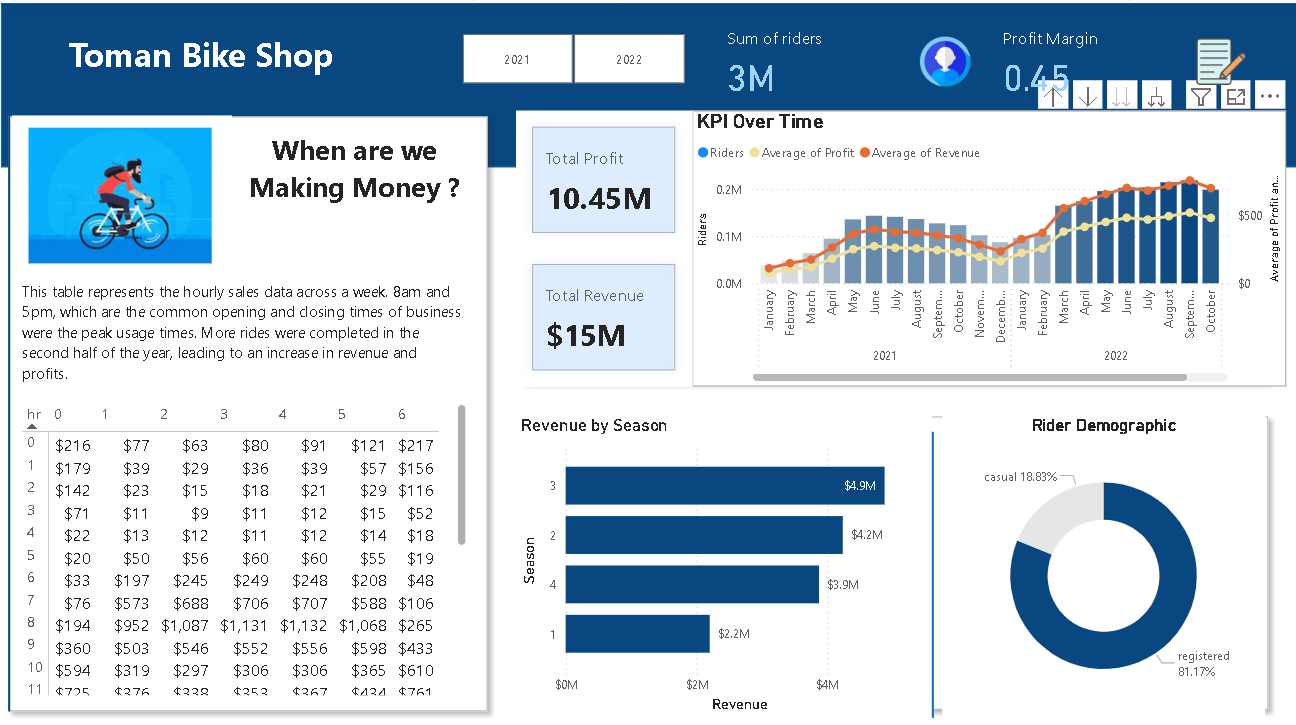

Layout of this report page (visuals, bound fields, positions):
{"tool":"powerbi","page":{"name":"Bike Share Dashboard","canvas":[1280,720],"ordinal":0},"visuals":[{"type":"shape","box":[10,0,1270,160.7],"z":0},{"type":"cardVisual","fields":{"Data":["Sum(Query1.riders)"]},"box":[0,93.8,503.5,616.1],"z":1000},{"type":"cardVisual","fields":{"Data":["Sum(Query1.riders)"]},"box":[503.5,93.8,763.2,294.3],"z":2000},{"type":"cardVisual","fields":{"Data":["Sum(Query1.riders)"]},"box":[503.5,388.1,763.2,321.7],"z":3000},{"type":"cardVisual","fields":{"Data":["Sum(Query1.riders)"]},"box":[15.9,105.3,225.1,161.6],"z":4000},{"type":"pivotTable","fields":{"Rows":["Query1.hr"],"Values":["Avg(Query1.Revenue)"],"Columns":["Query1.weekday"]},"box":[26,388.1,444.4,294.3],"z":5000},{"type":"textbox","box":[240.9,119.8,228.7,121.1],"z":6000},{"type":"textbox","box":[26,266.9,444.4,121.2],"z":7000},{"type":"lineClusteredColumnComboChart","title":"KPI Over Time","fields":{"Category":["Query1.dteday.Variation.Date Hierarchy.Year","Query1.dteday.Variation.Date Hierarchy.Month","Query1.dteday.Variation.Date Hierarchy.Day"],"Y":["Sum(Query1.riders)"],"Y2":["Avg(Query1.Profit)","Avg(Query1.Revenue)"]},"box":[686,105.2,580.8,270.2],"z":8000},{"type":"clusteredBarChart","fields":{"Category":["Query1.season"],"Y":["Sum(Query1.Revenue)"]},"box":[513.6,402.5,406.9,297.2],"z":9000},{"type":"donutChart","title":"Rider Demographic","fields":{"Category":["Query1.rider_type"],"Y":["Sum(Query1.riders)"]},"box":[930.6,402.5,316,297.2],"z":10000},{"type":"shape","box":[897.4,419.8,47.6,279.9],"z":11000},{"type":"cardVisual","title":"KPI Over Time","fields":{"Data":["Sum(Query1.Profit)","Sum(Query1.Revenue)"]},"box":[513.6,105.2,172.4,270.2],"z":12000},{"type":"cardVisual","fields":{"Data":["Sum(Query1.riders)","Query1.Prrofit Margin"]},"box":[702.6,4.3,543.9,101],"z":13000},{"type":"textbox","box":[15.9,23.2,379.1,67.3],"z":14000},{"type":"slicer","fields":{"Values":["Query1.Years"]},"box":[435.7,23.1,266.9,62],"z":15000}]}

Visuals, with their boxes on the page's 1280x720 design canvas (x1, y1, x2, y2). These are canvas units, not pixel positions in the 1296x725 screenshot, which may show the page scaled, cropped or inside an application window:
shape: bbox(10, 0, 1280, 161)
cardVisual - Sum(Query1.riders): bbox(0, 94, 504, 710)
cardVisual - Sum(Query1.riders): bbox(504, 94, 1267, 388)
cardVisual - Sum(Query1.riders): bbox(504, 388, 1267, 710)
cardVisual - Sum(Query1.riders): bbox(16, 105, 241, 267)
pivotTable - Query1.hr x Avg(Query1.Revenue): bbox(26, 388, 470, 682)
textbox: bbox(241, 120, 470, 241)
textbox: bbox(26, 267, 470, 388)
"KPI Over Time" lineClusteredColumnComboChart: bbox(686, 105, 1267, 375)
clusteredBarChart - Query1.season x Sum(Query1.Revenue): bbox(514, 402, 920, 700)
"Rider Demographic" donutChart: bbox(931, 402, 1247, 700)
shape: bbox(897, 420, 945, 700)
"KPI Over Time" cardVisual: bbox(514, 105, 686, 375)
cardVisual - Sum(Query1.riders) x Query1.Prrofit Margin: bbox(703, 4, 1246, 105)
textbox: bbox(16, 23, 395, 90)
slicer - Query1.Years: bbox(436, 23, 703, 85)
